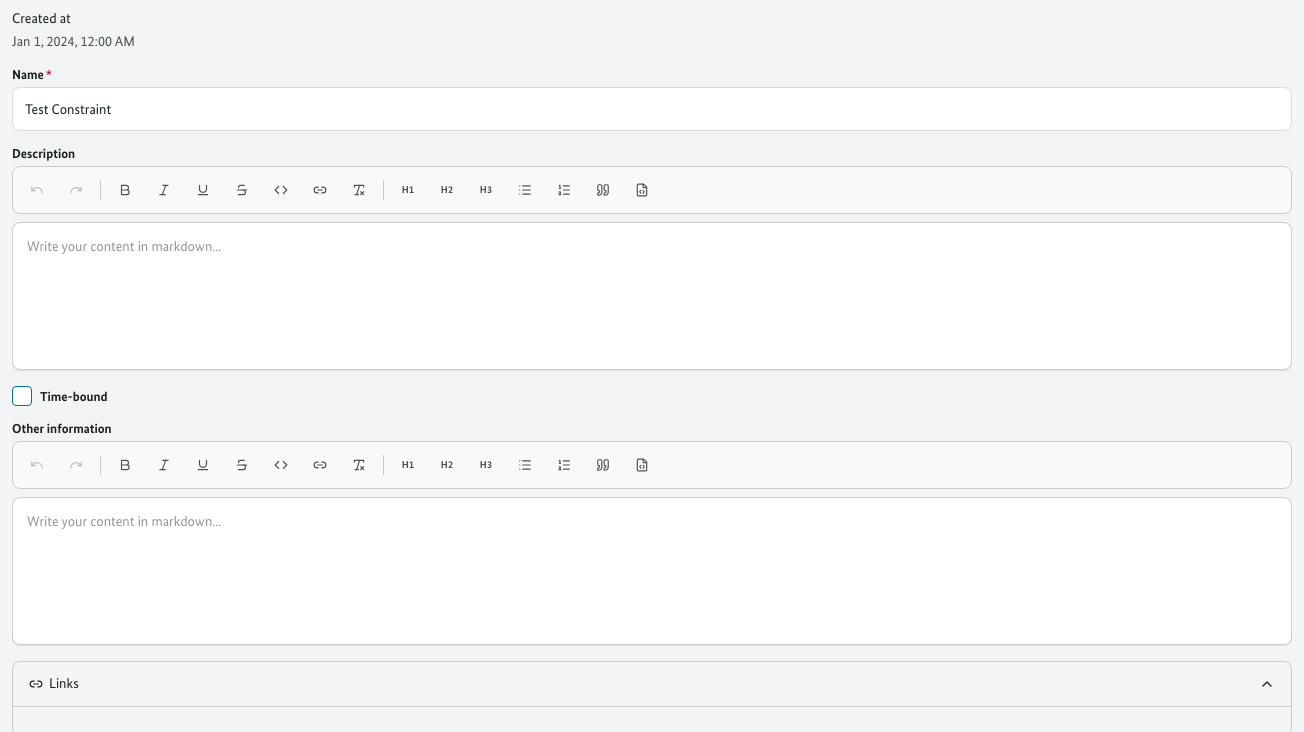
EditConstraintForm › shows validation error when name is cleared and form submitted
Clear the field with id "edit-constraint-name" at point(652, 109), box [12,87,1292,131]
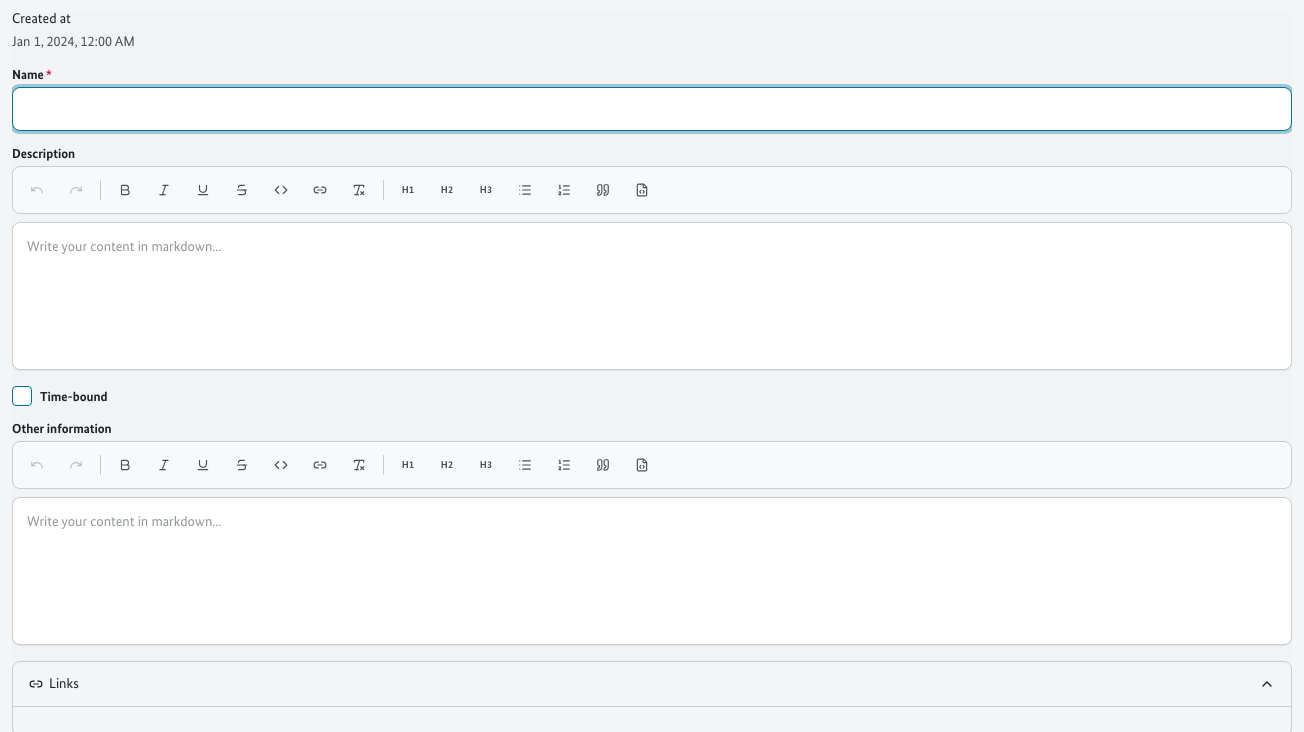
Submit the form with id "edit-constraint-form"
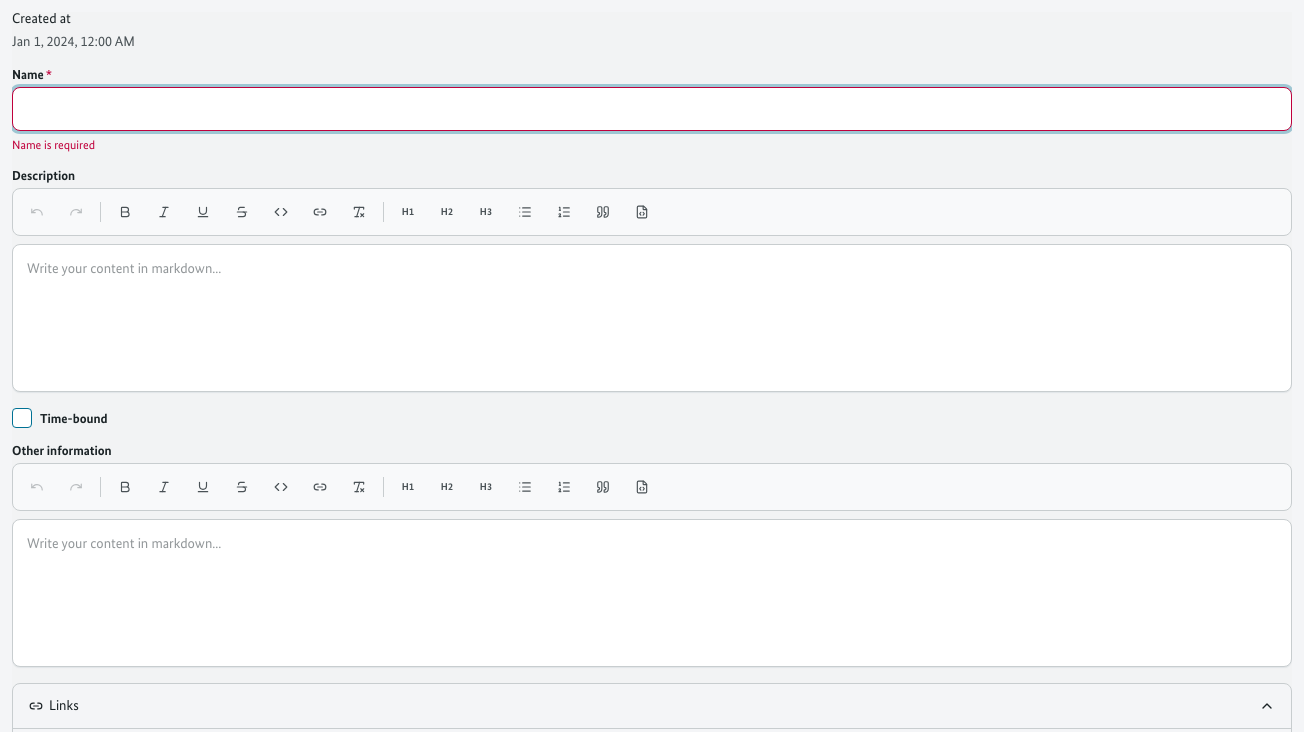
Expected: the message "Name is required" is shown, [12,138,95,152]
